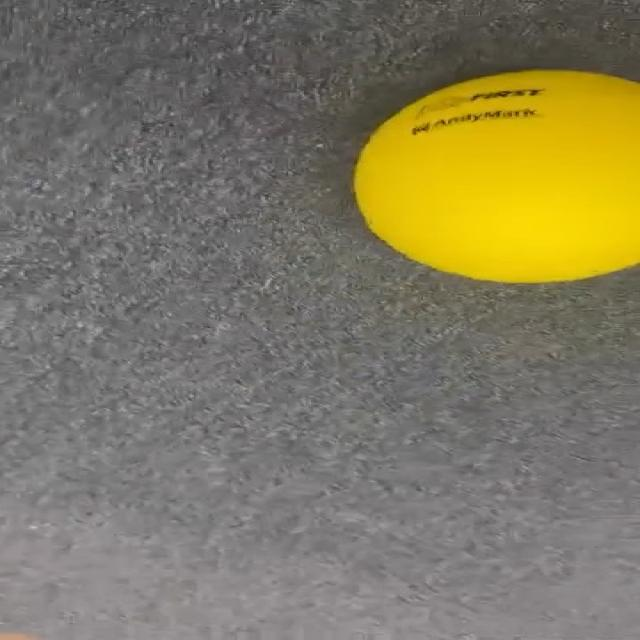Fuels: (356, 69, 638, 281)
